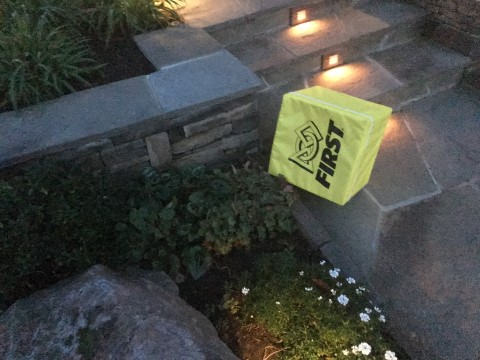cube: (268, 86, 392, 205)
